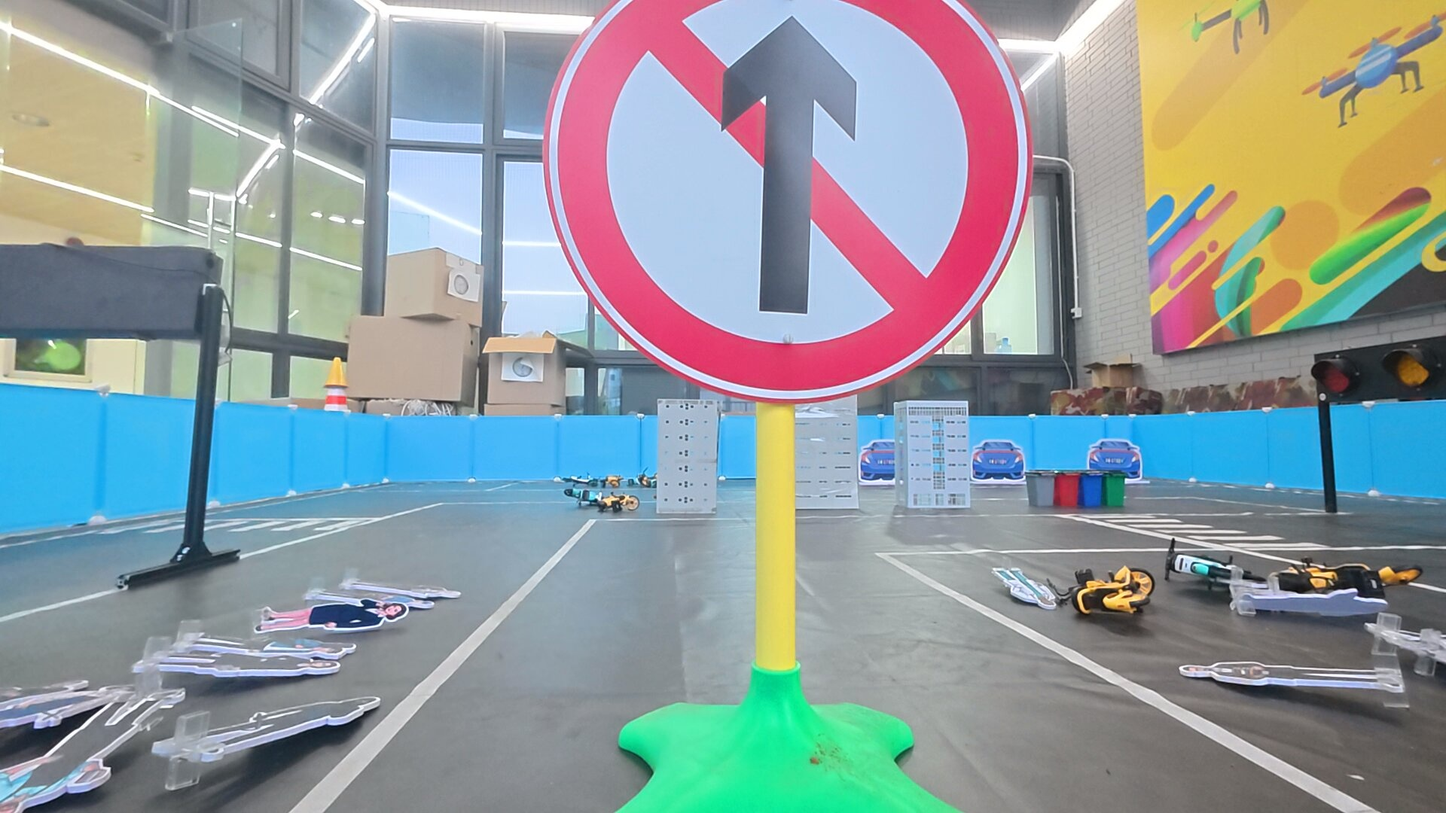obstacle: (540, 0, 1042, 408)
